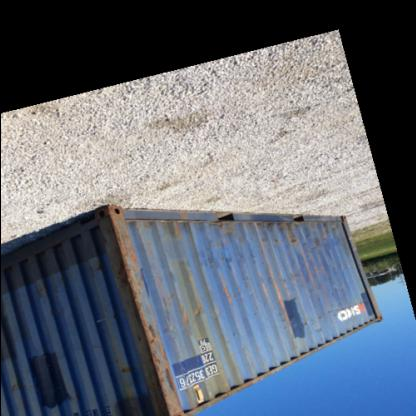Damage: (134, 319, 180, 413), (205, 310, 243, 387), (111, 245, 149, 313), (264, 310, 332, 336), (131, 214, 191, 243), (247, 219, 298, 248), (301, 220, 344, 250), (254, 266, 282, 309), (206, 217, 234, 257), (165, 260, 197, 292), (284, 265, 326, 289), (214, 266, 236, 306), (182, 304, 208, 332), (330, 276, 350, 308), (113, 356, 132, 388), (90, 310, 110, 330), (90, 258, 106, 282), (32, 278, 48, 302), (7, 379, 21, 399)
